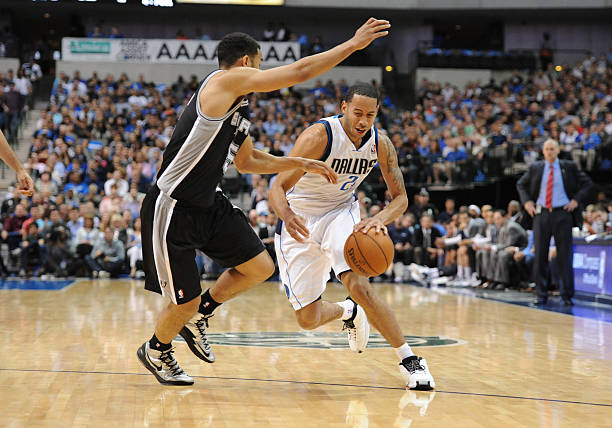ball: (346, 225, 395, 279)
player: (132, 49, 271, 391), (286, 107, 388, 368)
